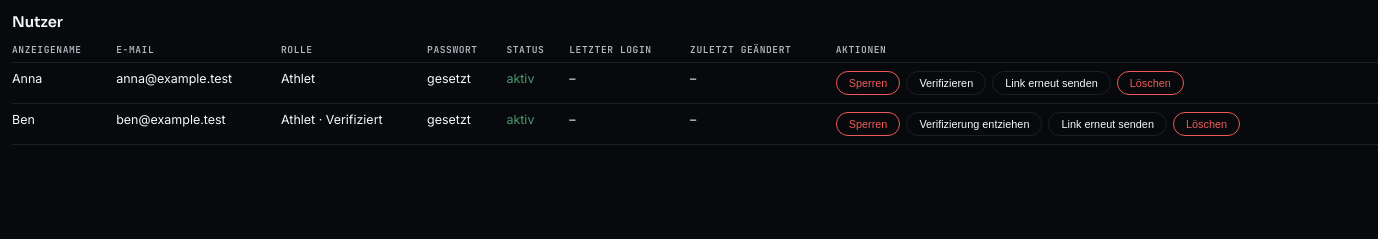
Test case: AdminUsersTable — Verifizierte Autoren › 'Ja, entziehen' ruft den Server und lädt die Liste neu
Expected: the text "Anna" is shown, [12,62,116,103]
Click the button with aria-label "Verifizierung für Ben entziehen": click(974, 124) [906,112,1042,136]
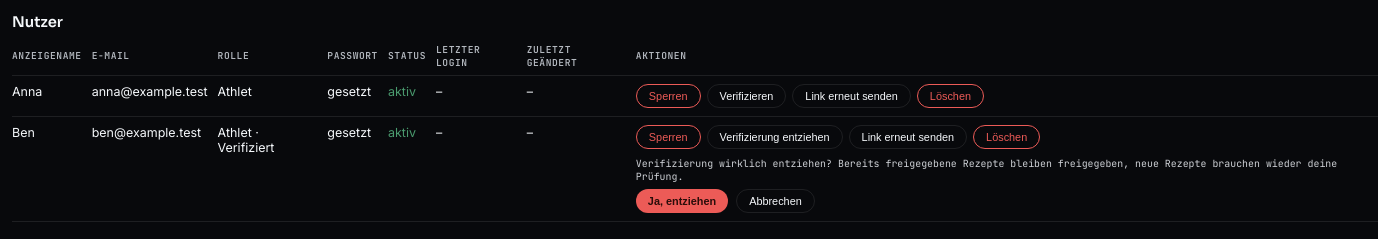
Click the button "Ja, entziehen": click(682, 201) [636,189,728,213]
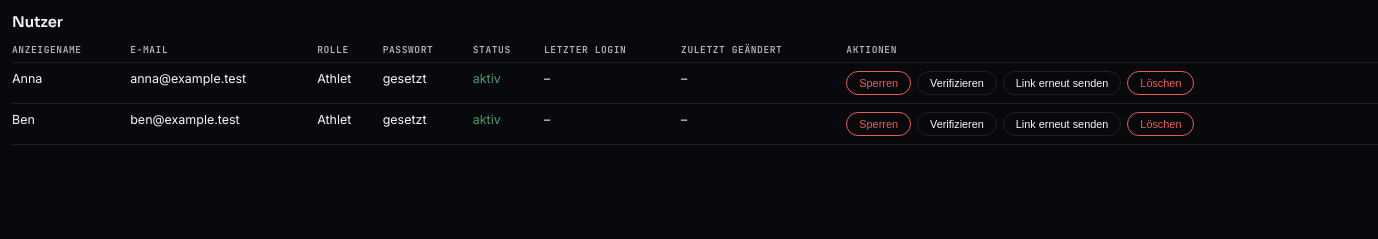
Expected: the text "Athlet · Verifiziert" is gone
